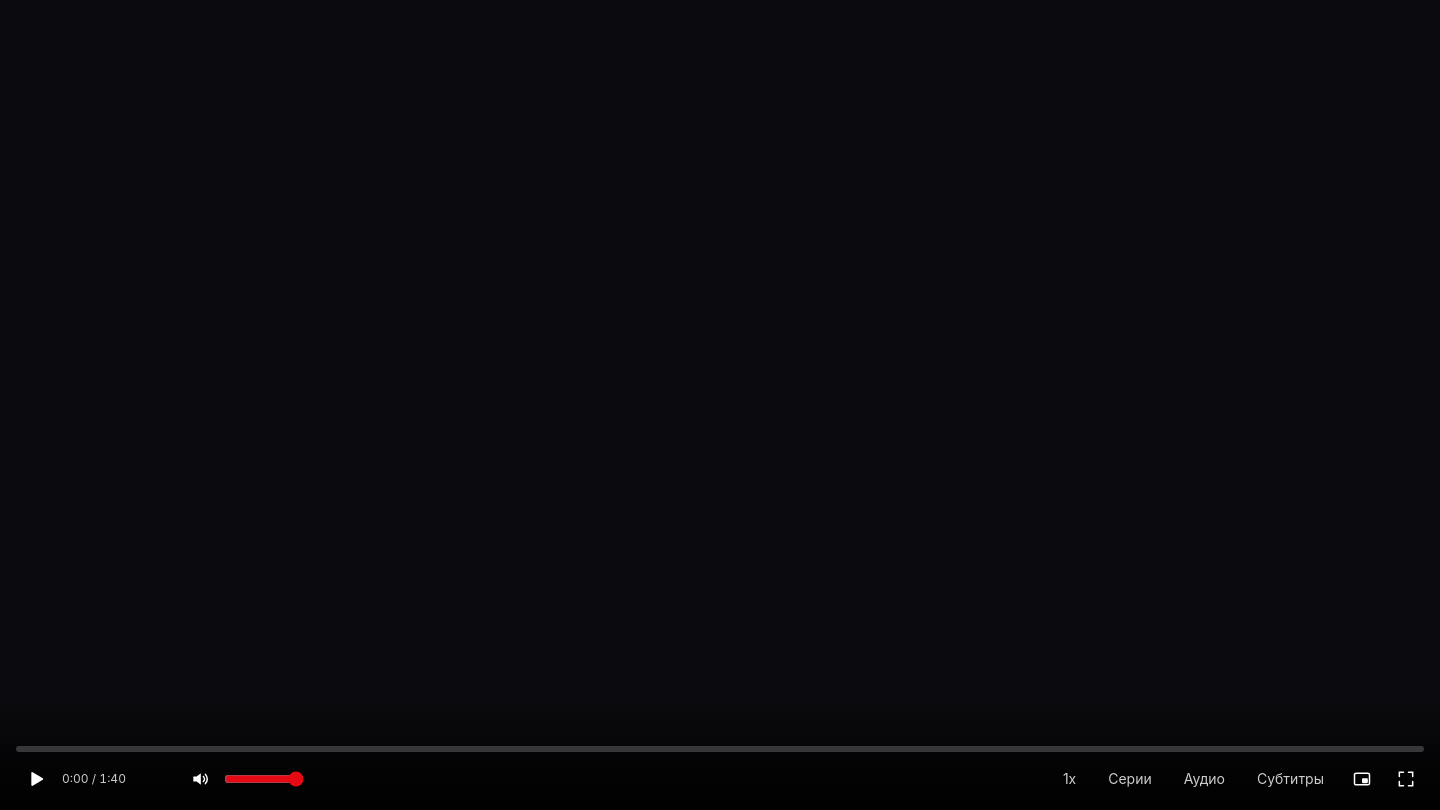
Test: меню выбора серии в плеере › клик по текущей серии не гоняет маршрут
The image size is (1440, 810).
Click the button with test id "menu-серии" at point(1130, 779), box [1096,763,1164,795]
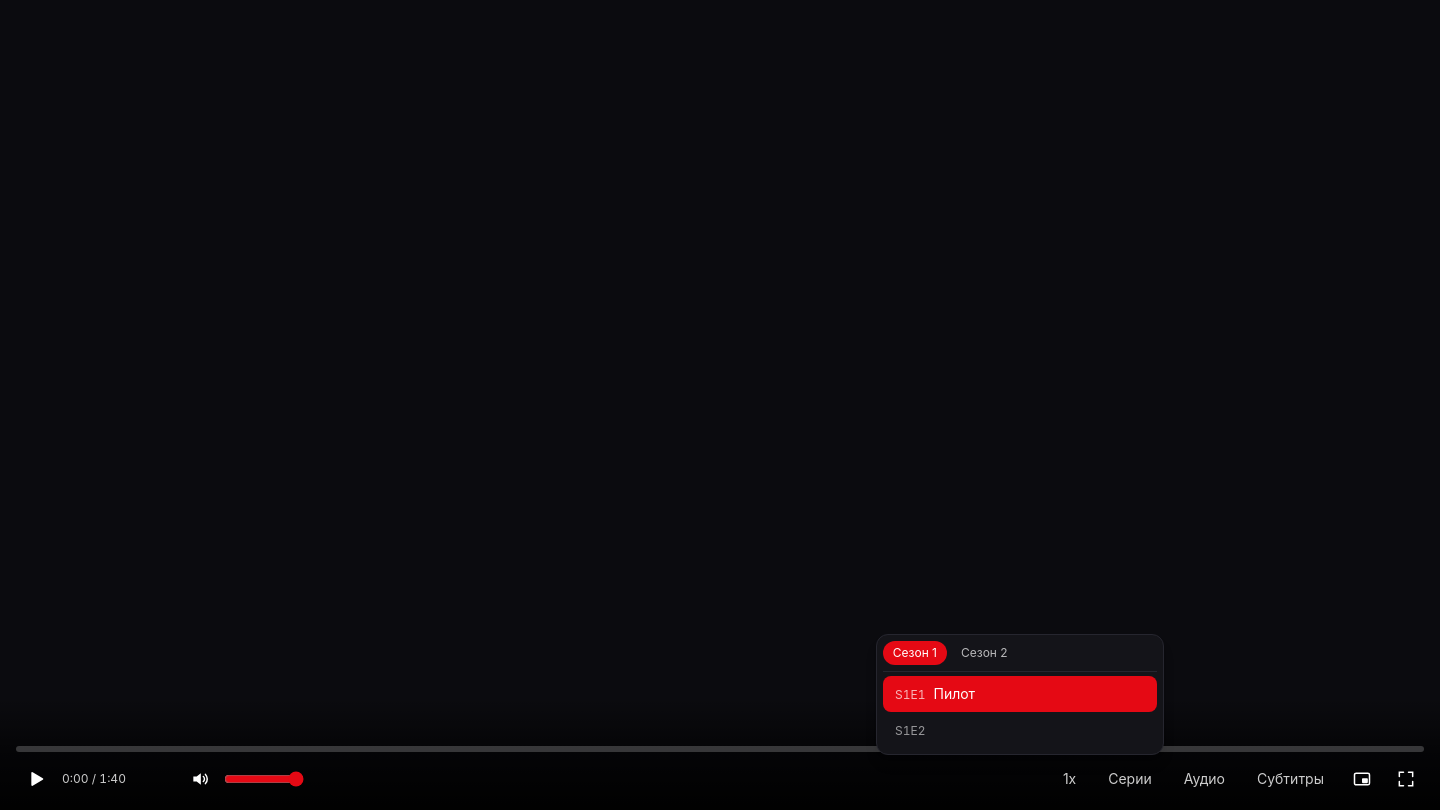
Click the button with test id "player-episode-101" at point(910, 694), box [883,676,1157,712]
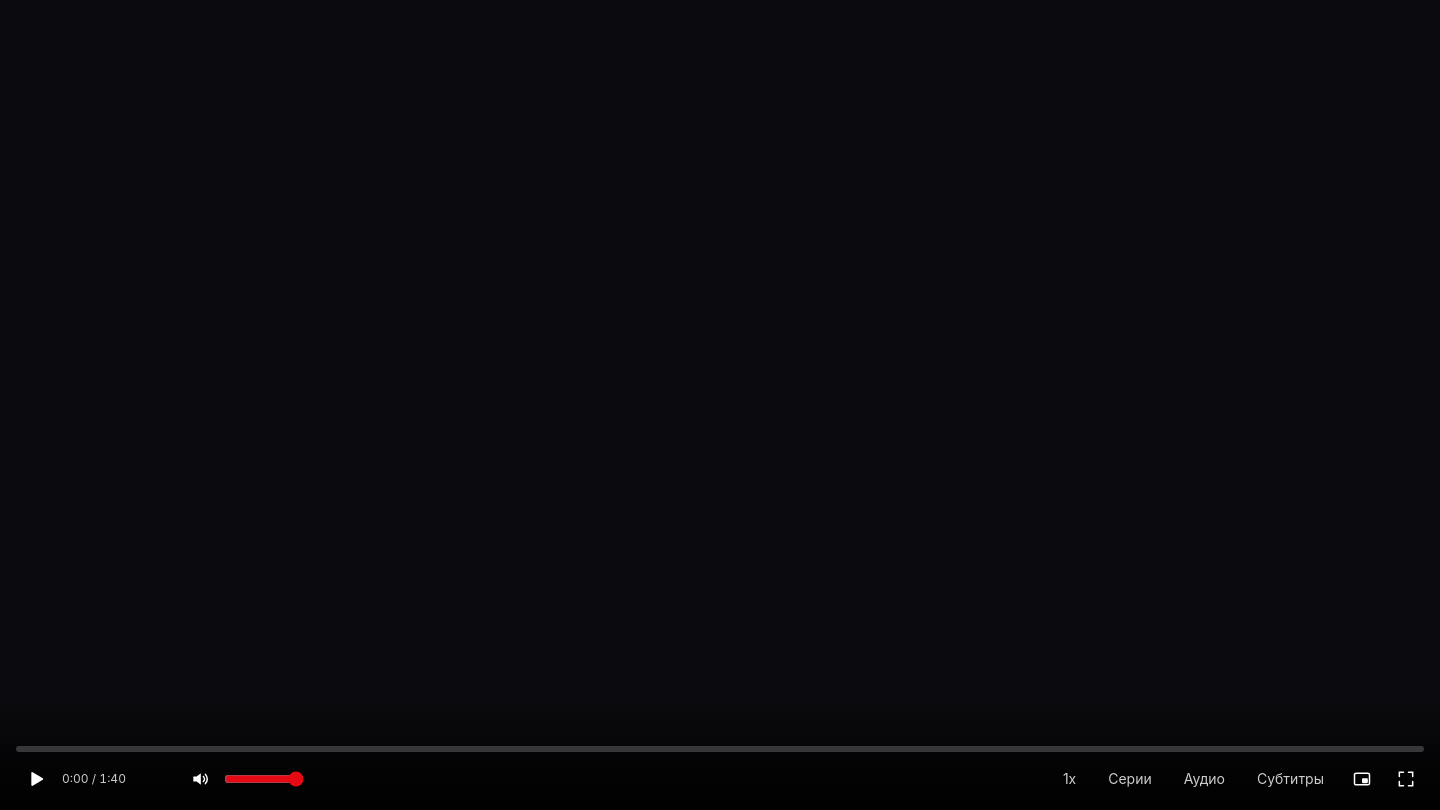
Expected: the button with test id "player-episode-102" is gone
